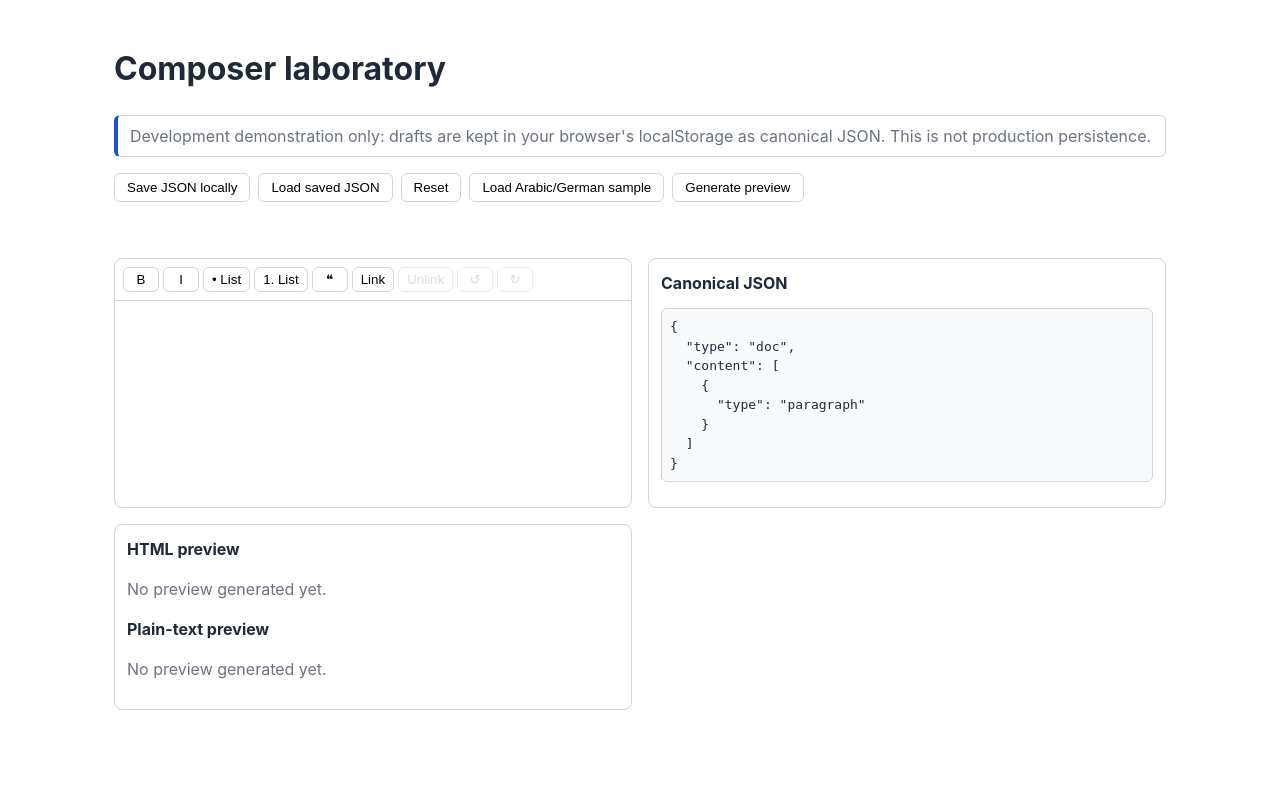
Scenario: ComposerLab › refuses to load tampered non-canonical localStorage content
The image size is (1280, 800).
Expected: the text box with class "composer-editor-content" is shown, [115, 301, 631, 501]
Click the button "Load saved JSON". click: (326, 187)
box: [258, 173, 393, 202]
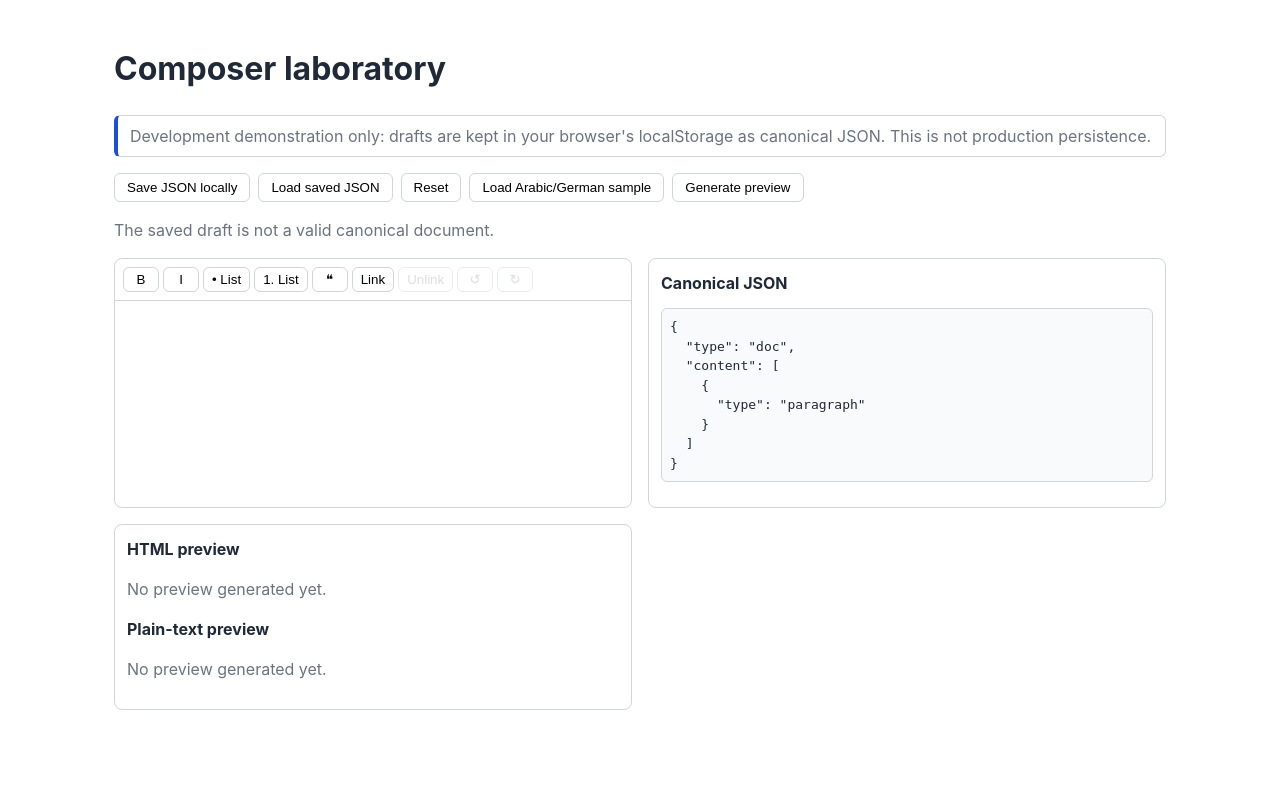
Expected: the message shows "not a valid canonical document", [114, 220, 494, 240]
